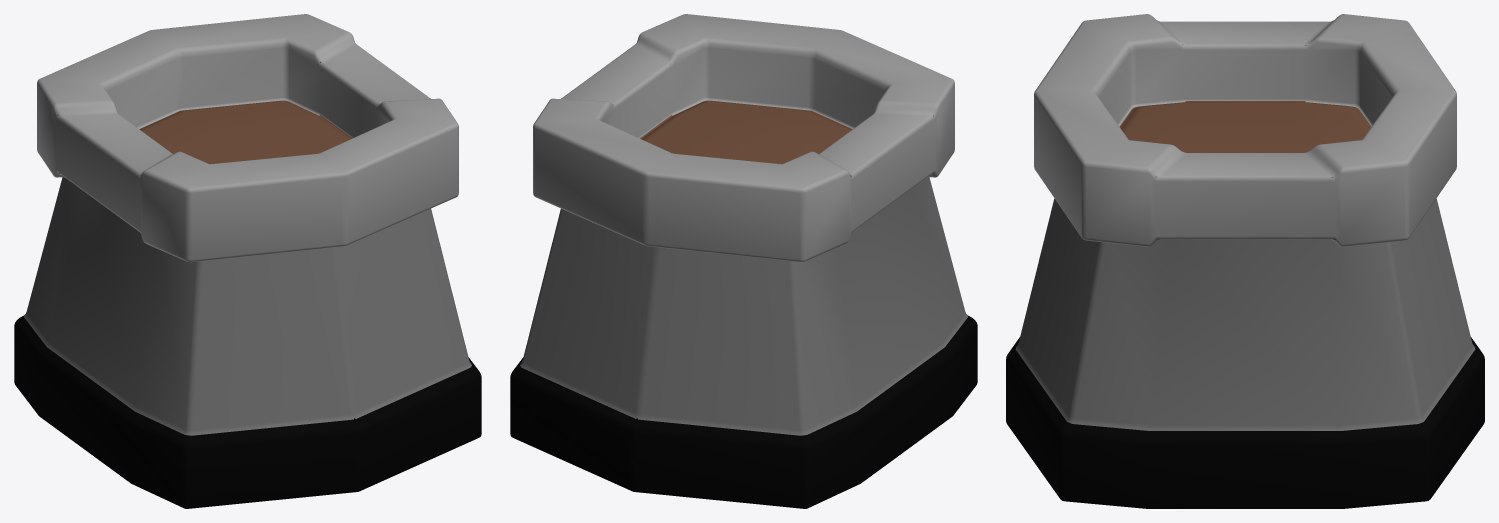
The model's file is torre_lado.fbx.
3 views of the same model, side by side, from view 1: azimuth 30°, elevation 25°; view 2: azimuth 150°, elevation 25°; view 3: azimuth 270°, elevation 25° (orthographic). The views are drawn at different scales.
Visible parts, largest first — view 1: Cube.011; view 2: Cube.011; view 3: Cube.011.
Boxes of the visible parts, x1,y1,x2,y2 form: Cube.011: [14, 14, 481, 508]; Cube.011: [510, 14, 977, 508]; Cube.011: [1006, 14, 1484, 508].
Size of the model in its own units: 92.4 by 83.67 by 109.
1 material, 1 textured.
